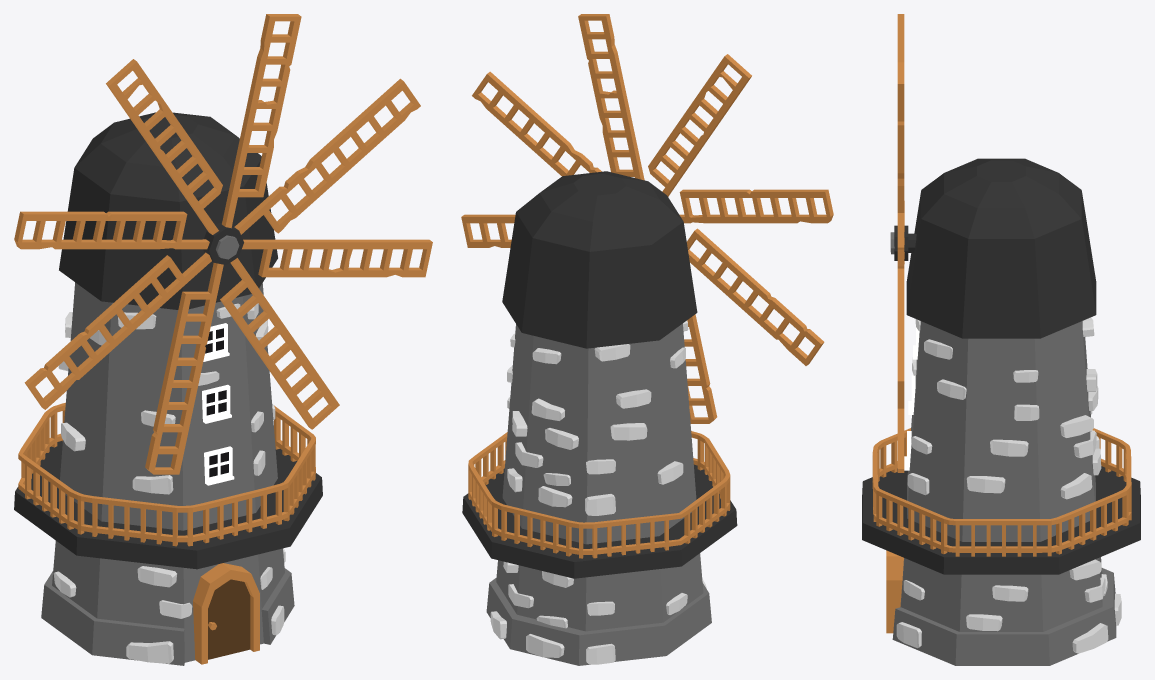
The model's file is prop_TowerWindmill.glb.
3 renders of one model, left to right at view 1: azimuth 30°, elevation 25°; view 2: azimuth 150°, elevation 25°; view 3: azimuth 270°, elevation 25°, orthographic. The views are drawn at different scales.
Parts seen in each view (by area): view 1: TowerWindmill, TowerWindmill_Blades; view 2: TowerWindmill, TowerWindmill_Blades; view 3: TowerWindmill, TowerWindmill_Blades.
Part boxes in pixels (<box>): TowerWindmill: <box>14,112,322,665</box>; TowerWindmill_Blades: <box>14,14,432,474</box>; TowerWindmill: <box>462,171,737,665</box>; TowerWindmill_Blades: <box>461,14,833,423</box>; TowerWindmill: <box>862,158,1140,665</box>; TowerWindmill_Blades: <box>897,14,904,472</box>.
Size of the model in its own units: 7.92 by 11.41 by 4.99.
